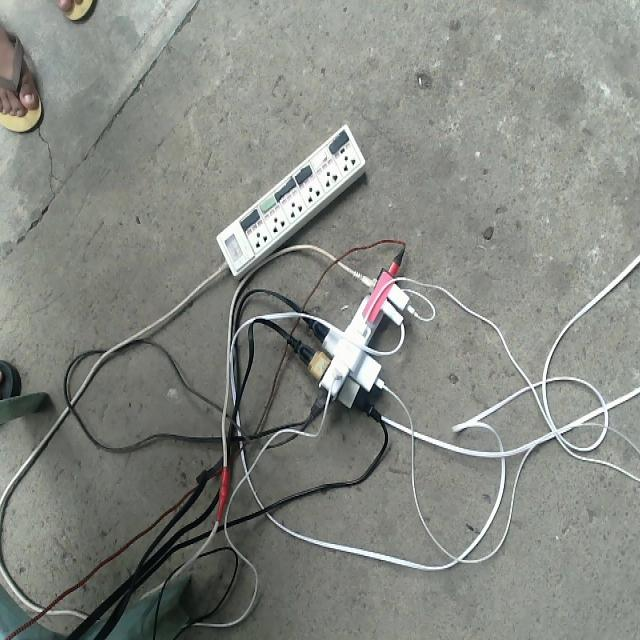-: (298, 250, 417, 422)
